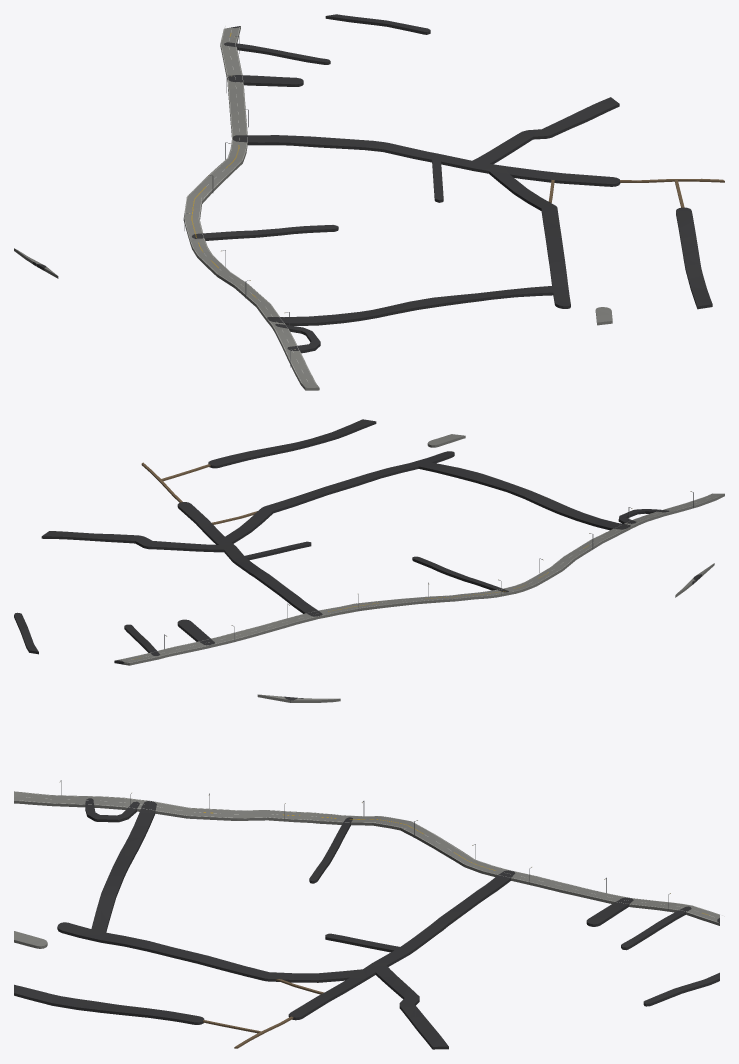
The picture shows the model from 3 angles, top to bottom: view 1: azimuth 30°, elevation 25°; view 2: azimuth 150°, elevation 25°; view 3: azimuth 270°, elevation 25°; orthographic projection. The views are drawn at different scales.
Size of the model in its own units: 293 by 29.01 by 294.
